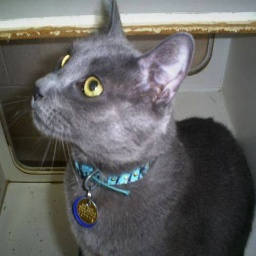cat: (33, 3, 256, 256)
